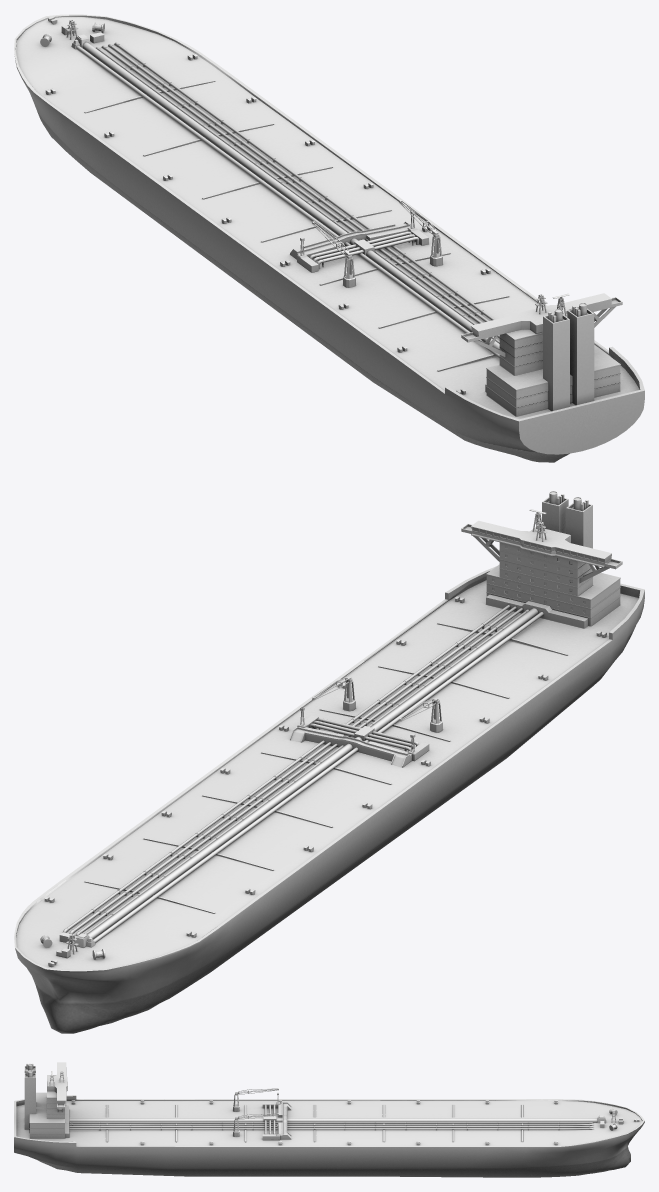
File: tanker-xl.glb
3 renders of one model, top to bottom at view 1: azimuth 30°, elevation 25°; view 2: azimuth 150°, elevation 25°; view 3: azimuth 270°, elevation 25°, orthographic. The views are drawn at different scales.
Parts seen in each view (by area): view 1: TankerXL_LOD0; view 2: TankerXL_LOD0; view 3: TankerXL_LOD0.
Part boxes in pixels (box(x1,y1,x2,y2)): TankerXL_LOD0: box(14, 14, 644, 462); TankerXL_LOD0: box(14, 491, 644, 1033); TankerXL_LOD0: box(14, 1062, 644, 1177).
Bounding box in the file's own units: 5.78 × 5.66 × 32.02.
1 material, 1 textured.
